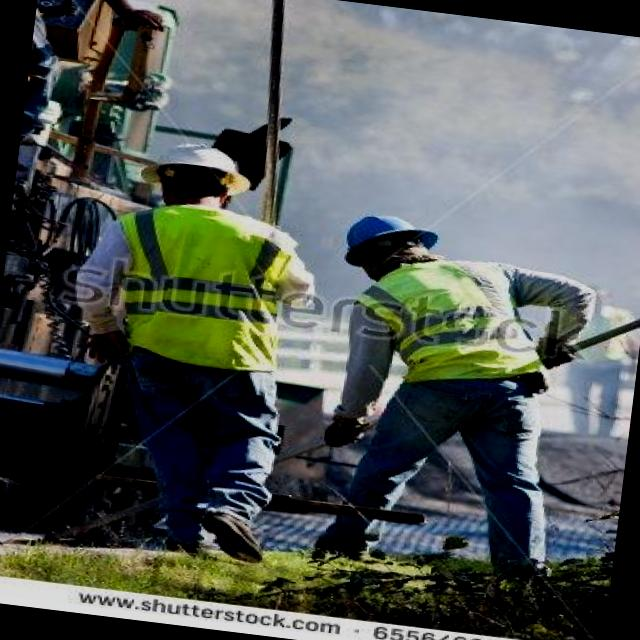helmet: (130, 136, 260, 200), (334, 205, 442, 278)
vest: (110, 190, 285, 372), (378, 250, 530, 386)
